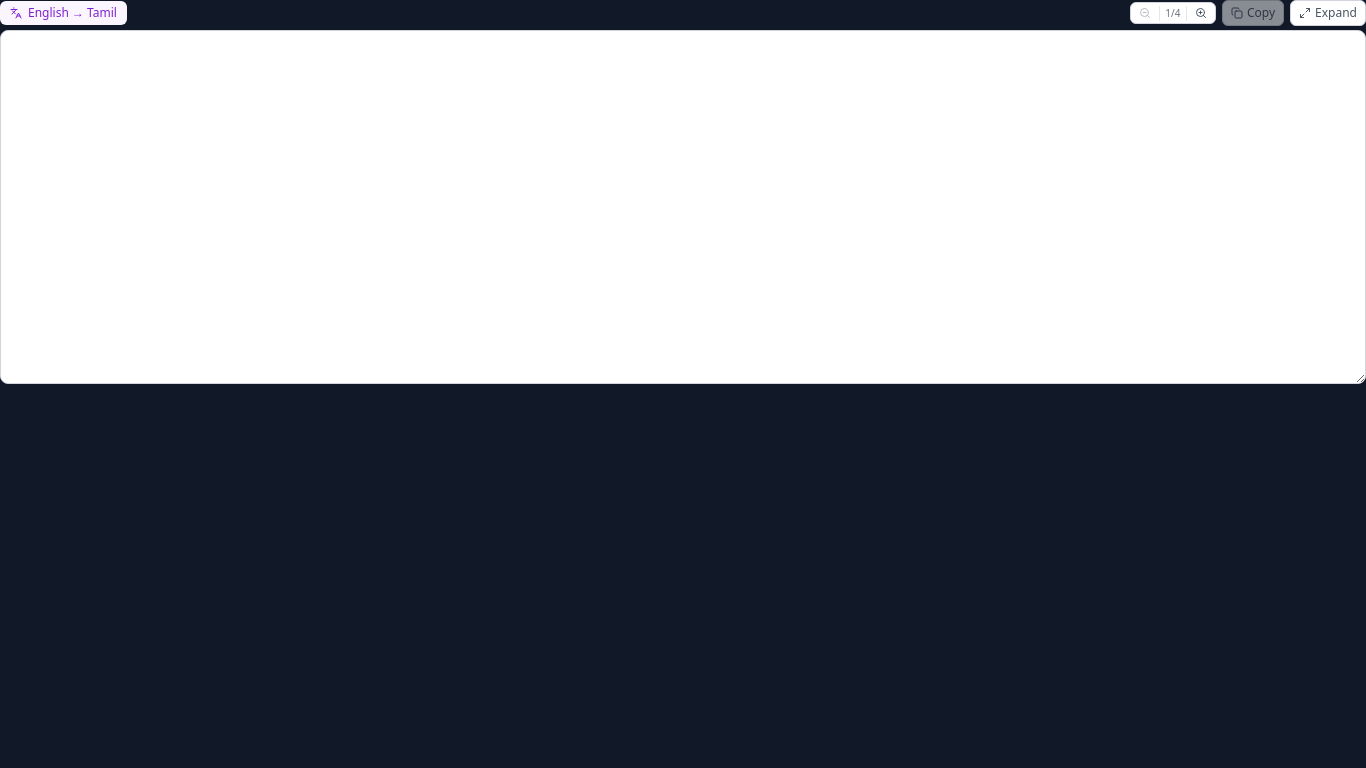
Scenario: LyricDraftEditor › expand to full screen › collapses on Escape
Click the button with aria-label "expand editor to full screen". click: (1328, 13)
box: [1290,0,1365,26]
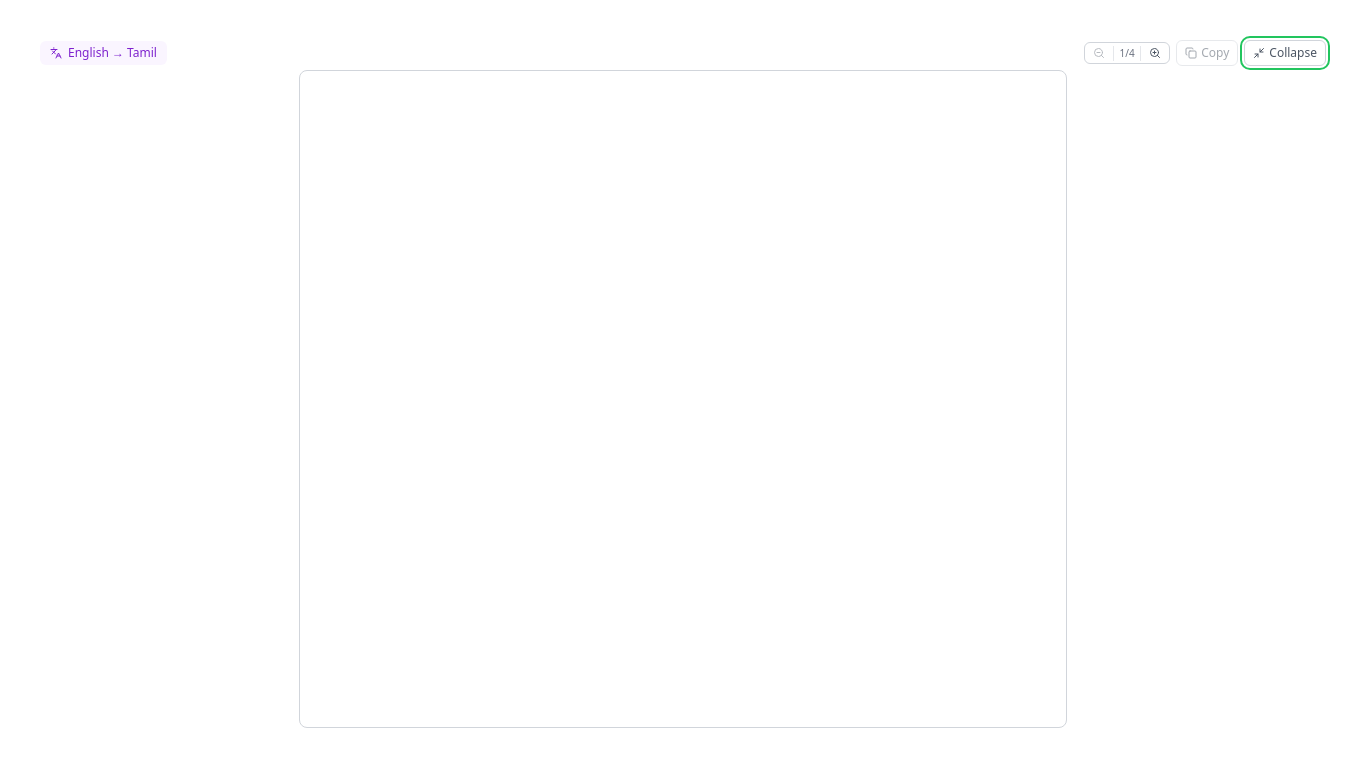
Now the button with aria-label "collapse editor" is shown, box [1244,40,1326,66]
Press Escape
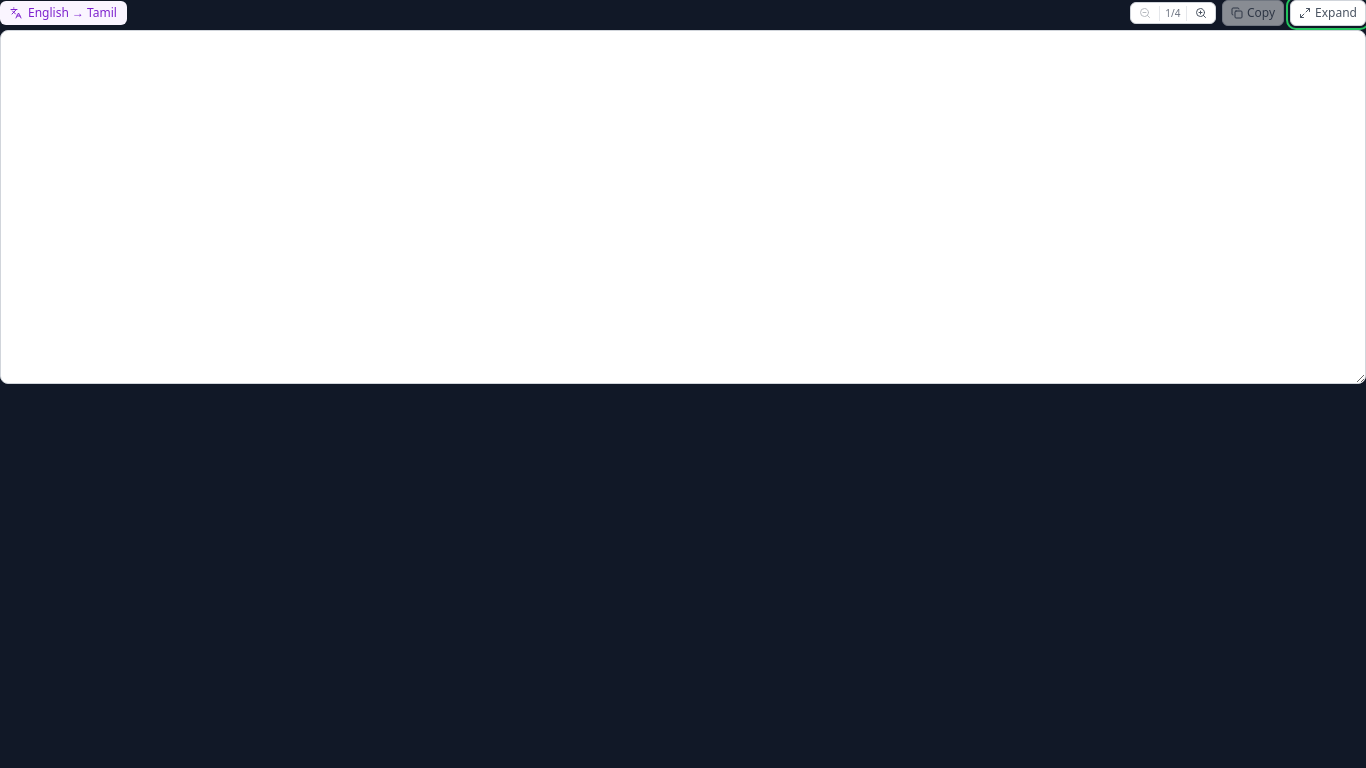
Now the button with aria-label "expand editor to full screen" is shown, box [1290,0,1365,26]
